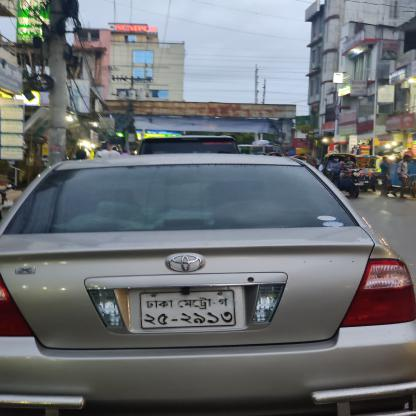license_plate: (133, 291, 248, 329)
